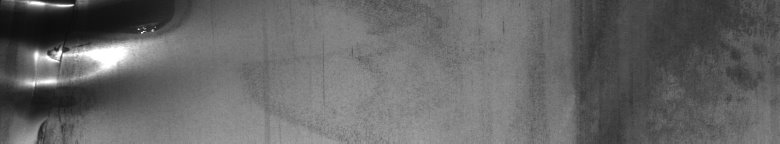ke: (4, 4, 165, 136)
